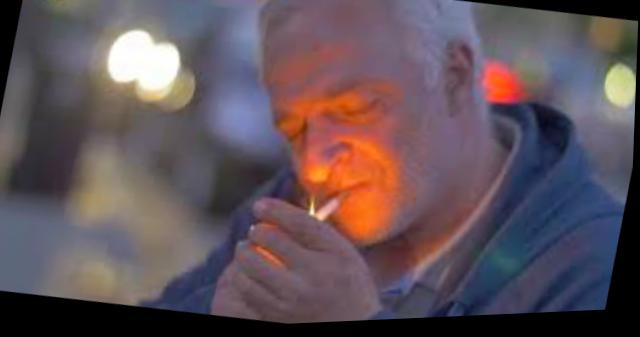fire: (294, 191, 325, 222)
